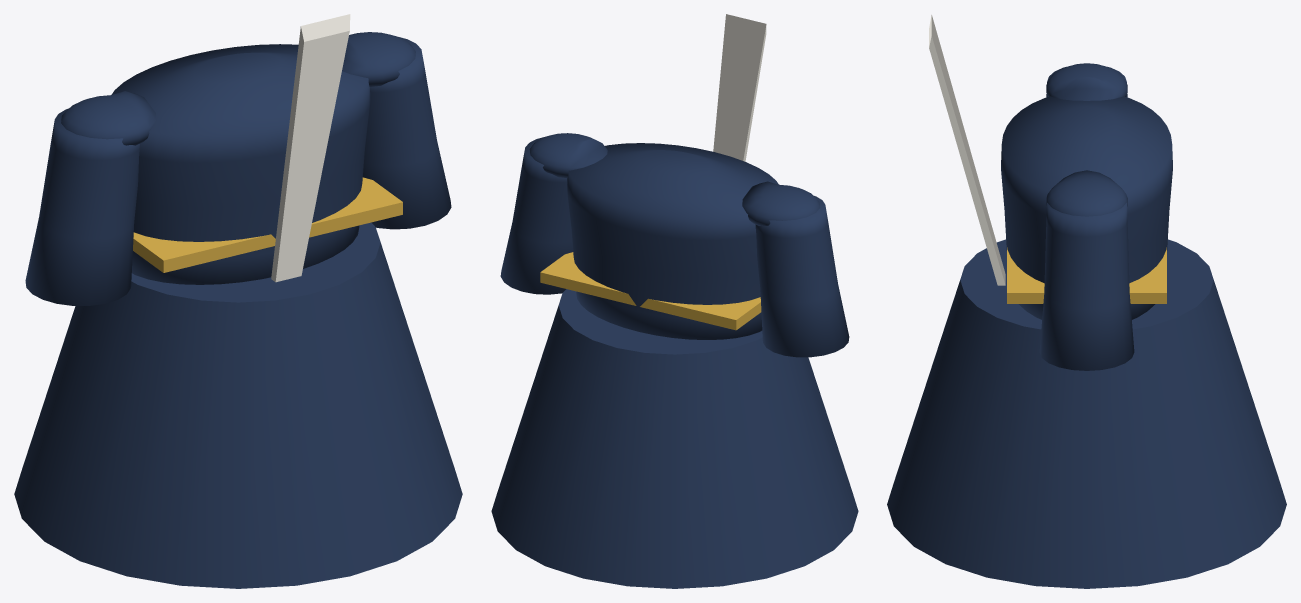
The model's file is suit_ancient_1.glb.
3 views of the same model, side by side, from view 1: azimuth 30°, elevation 25°; view 2: azimuth 150°, elevation 25°; view 3: azimuth 270°, elevation 25° (orthographic). The views are drawn at different scales.
Size of the model in its own units: 0.7134 by 0.8893 by 0.672.
